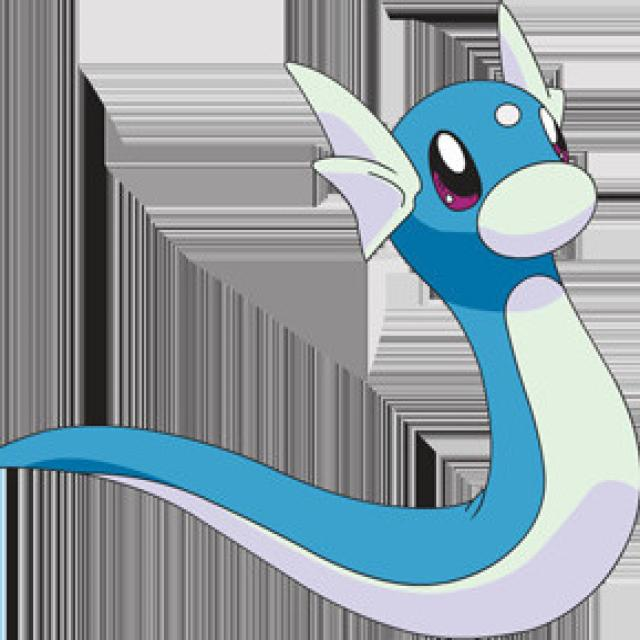Dratini: (212, 47, 638, 612)
